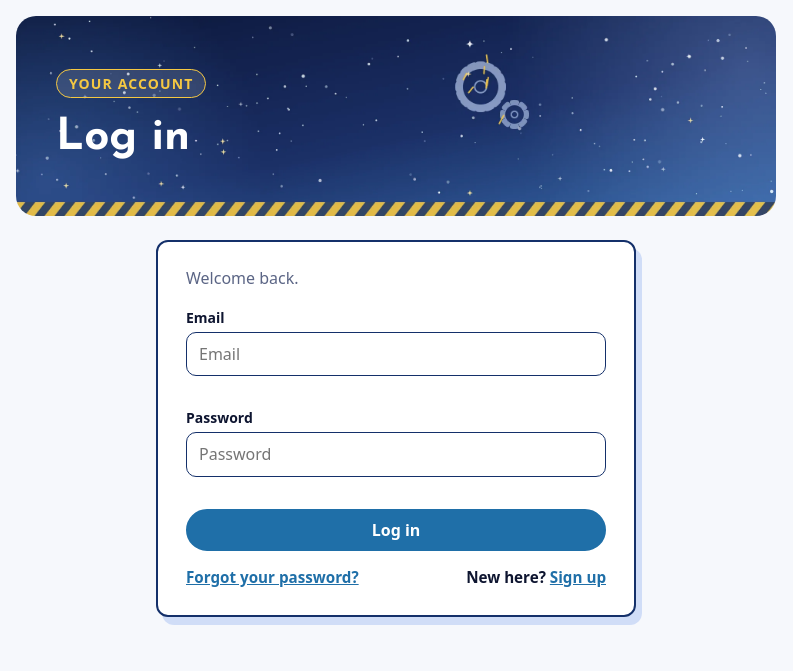
log in › says how to fix an email that is not an email
Type "name@example" into the field labelled "Email" at (396, 354), box 186,332 -> 606,376
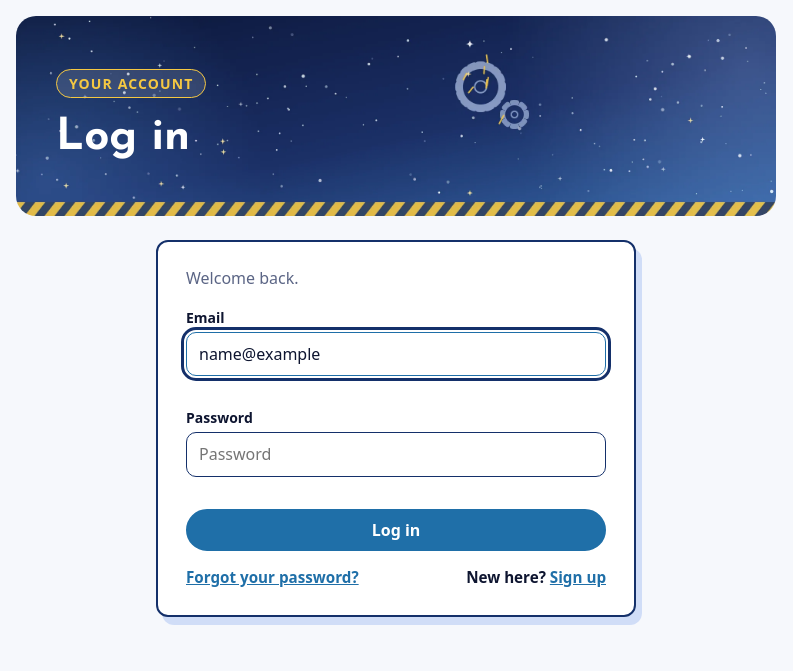
Type "secret123" into the password field labelled "Password" at (396, 454), box 186,432 -> 606,477
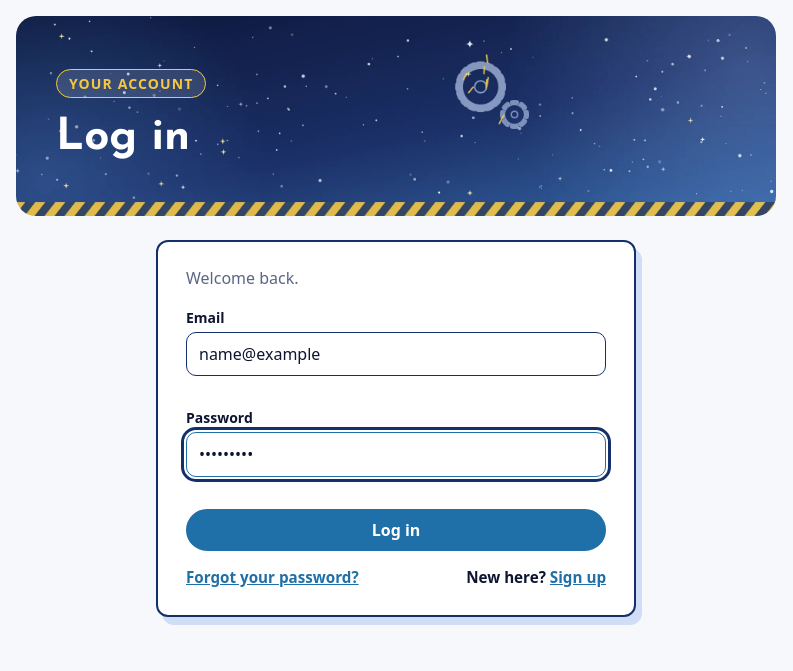
Click the button "Log in" at (396, 530), box 186,509 -> 606,551
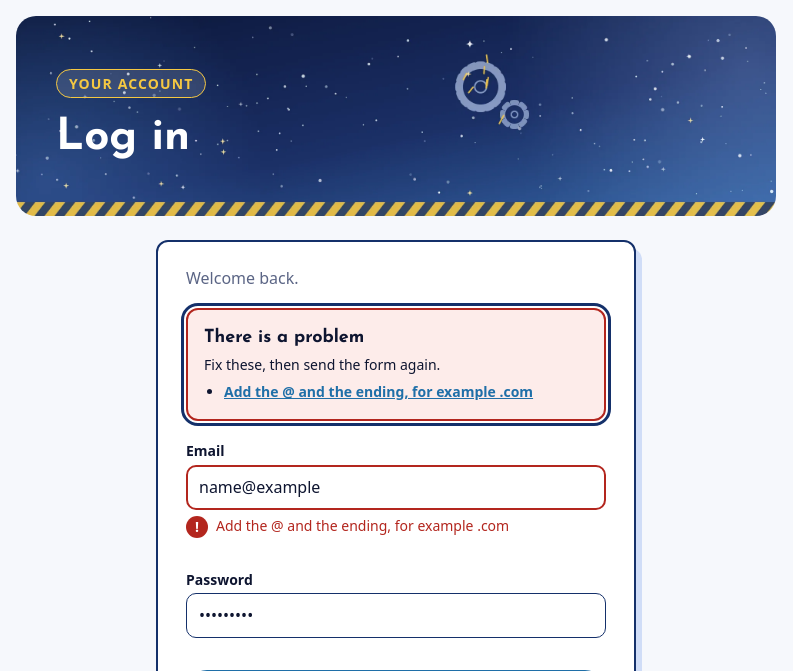
expect the message shows "Add the @ and the ending, for example .com": met, box 224,382 -> 533,401
